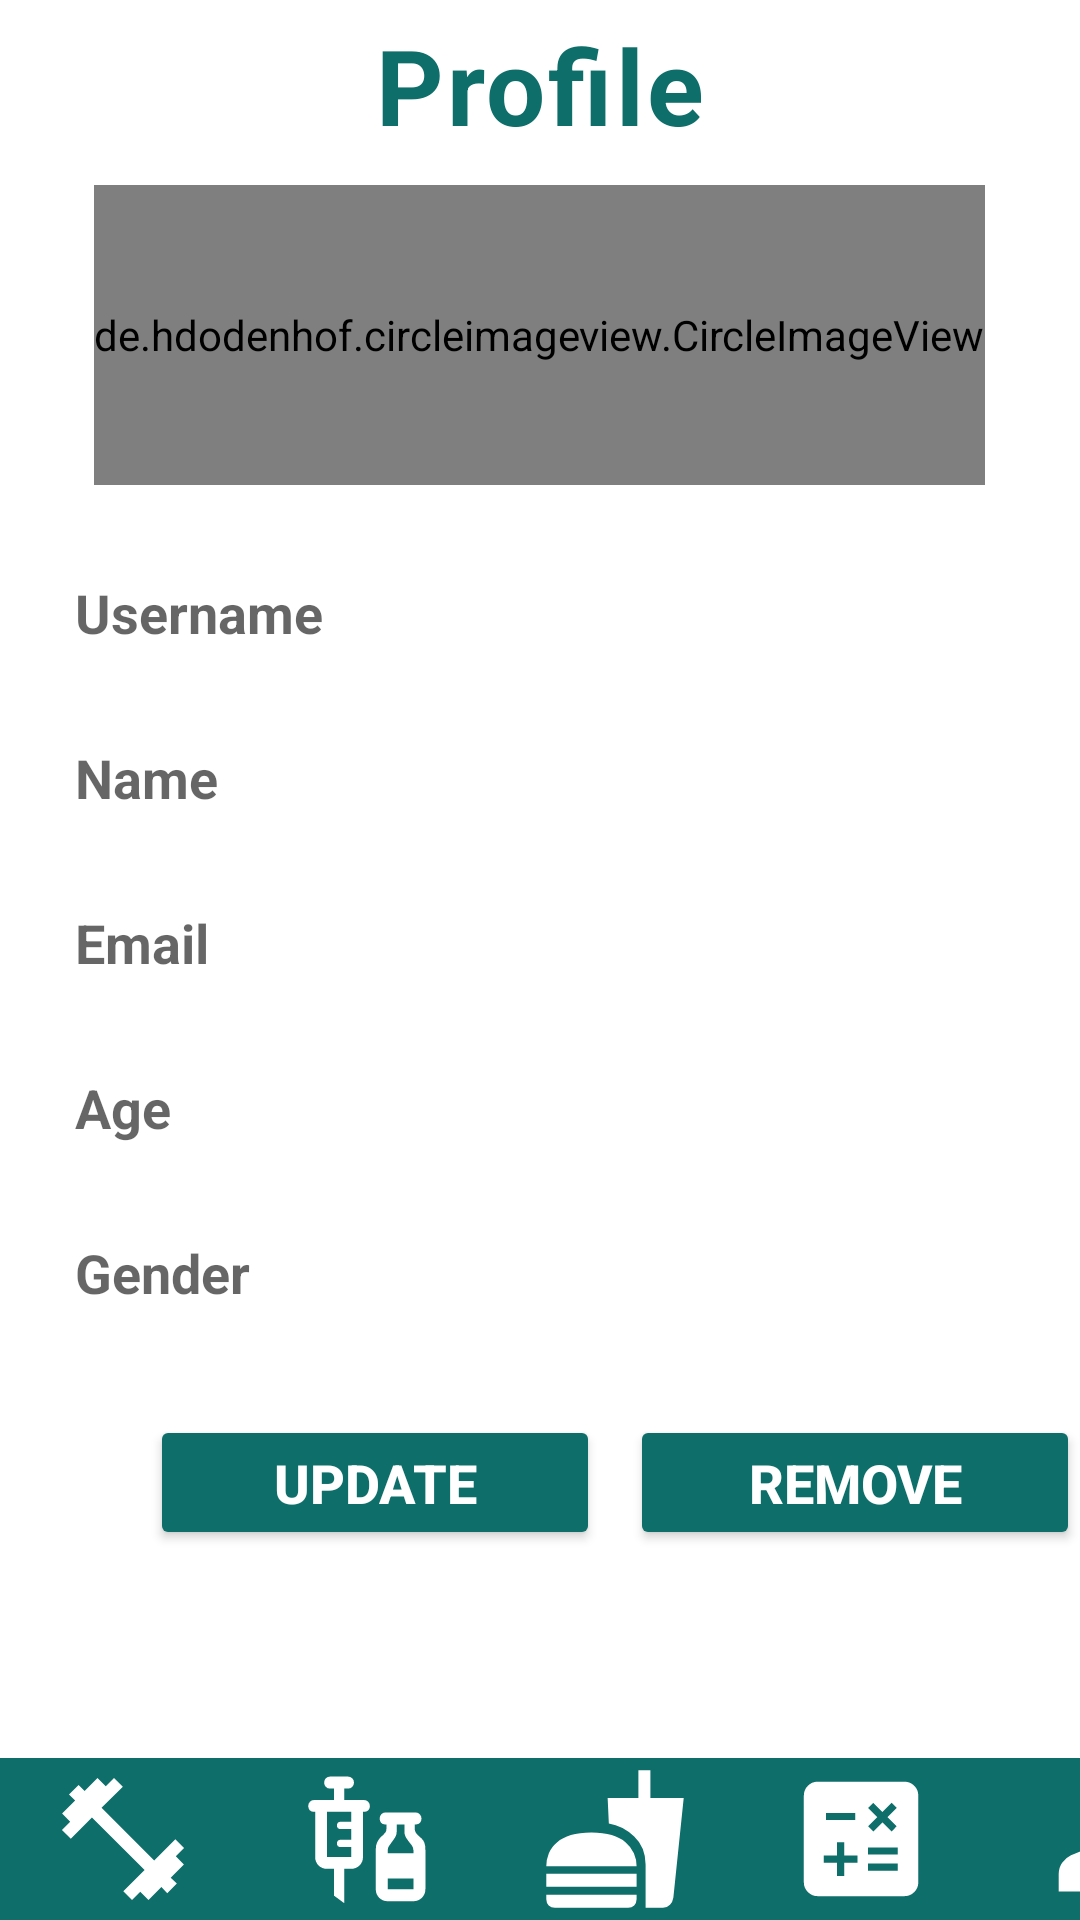

Screen size 1080x1920. Icon name, then its box in pixels as (x1, y1, x2, y2):
calculate: (803, 1781, 919, 1897)
fastfood: (546, 1770, 684, 1908)
fitness center: (62, 1778, 184, 1900)
vaccines: (308, 1776, 426, 1903)
